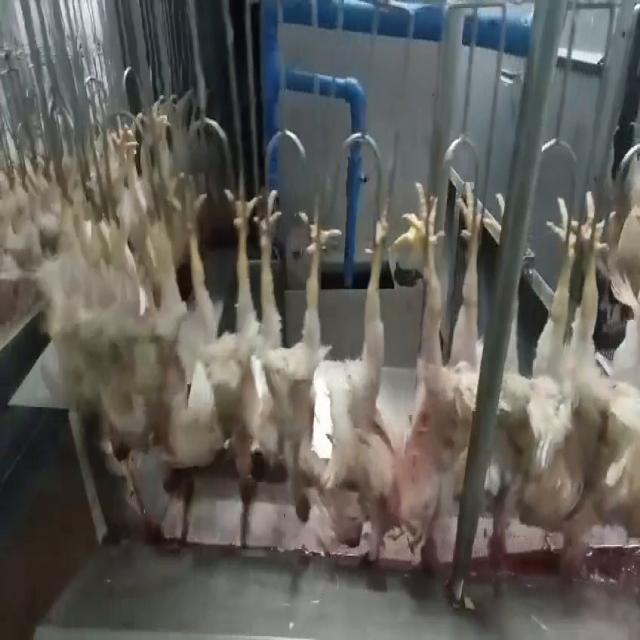chicken: (486, 184, 584, 573), (398, 176, 486, 587), (302, 191, 393, 579), (220, 190, 314, 488), (155, 182, 223, 475), (590, 200, 640, 549), (94, 167, 154, 448)
